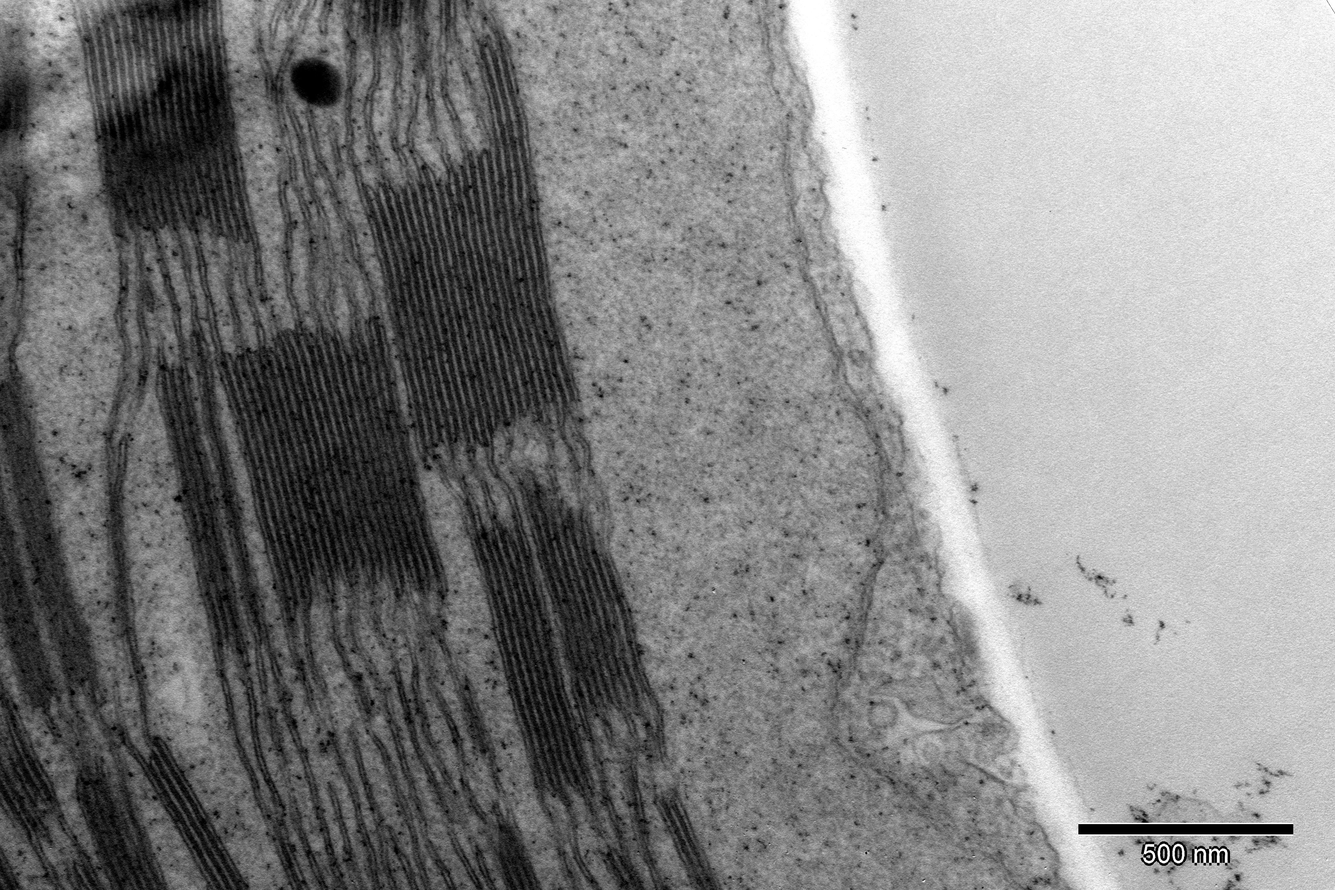granum: (356, 30, 583, 455), (213, 315, 452, 617), (67, 0, 259, 241), (466, 524, 597, 794), (518, 488, 664, 718), (0, 372, 99, 688), (154, 366, 252, 652), (141, 745, 253, 889), (0, 479, 61, 711), (75, 767, 170, 889), (0, 671, 57, 845), (650, 789, 725, 889), (491, 824, 544, 890), (454, 681, 497, 756), (355, 1, 405, 28), (64, 862, 107, 889)
